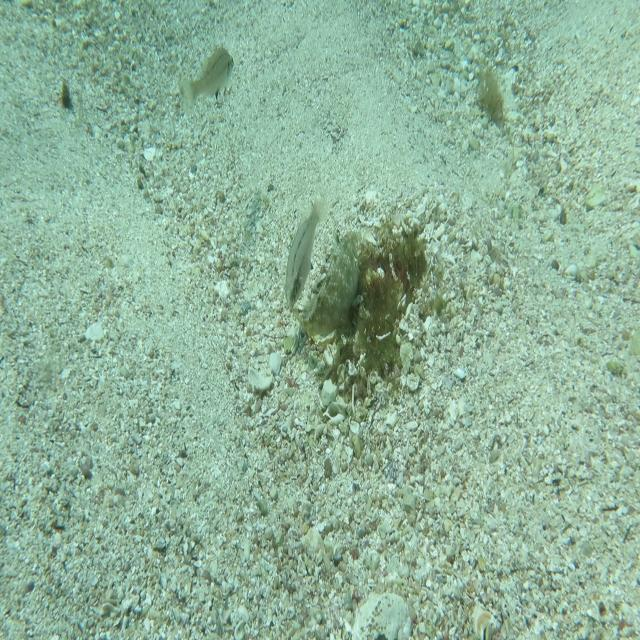BEND: (289, 222, 364, 350)
female: (284, 185, 332, 312), (173, 56, 238, 137)
nest: (312, 206, 448, 426)
